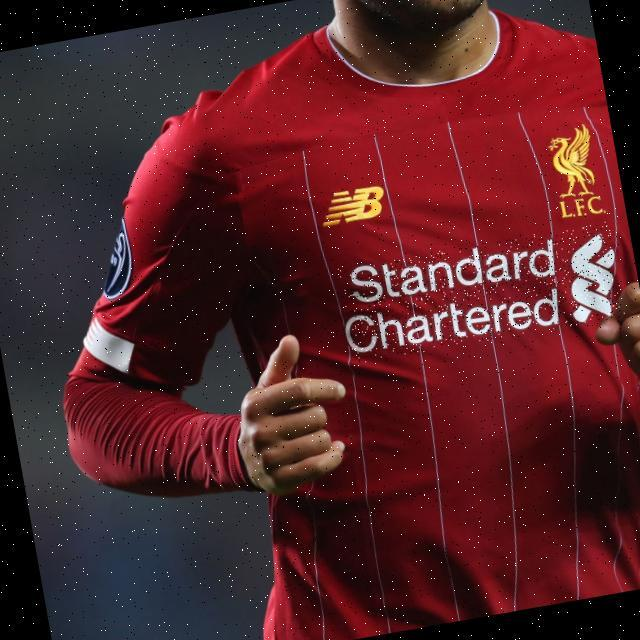Standard Chartered: (337, 221, 625, 364)
